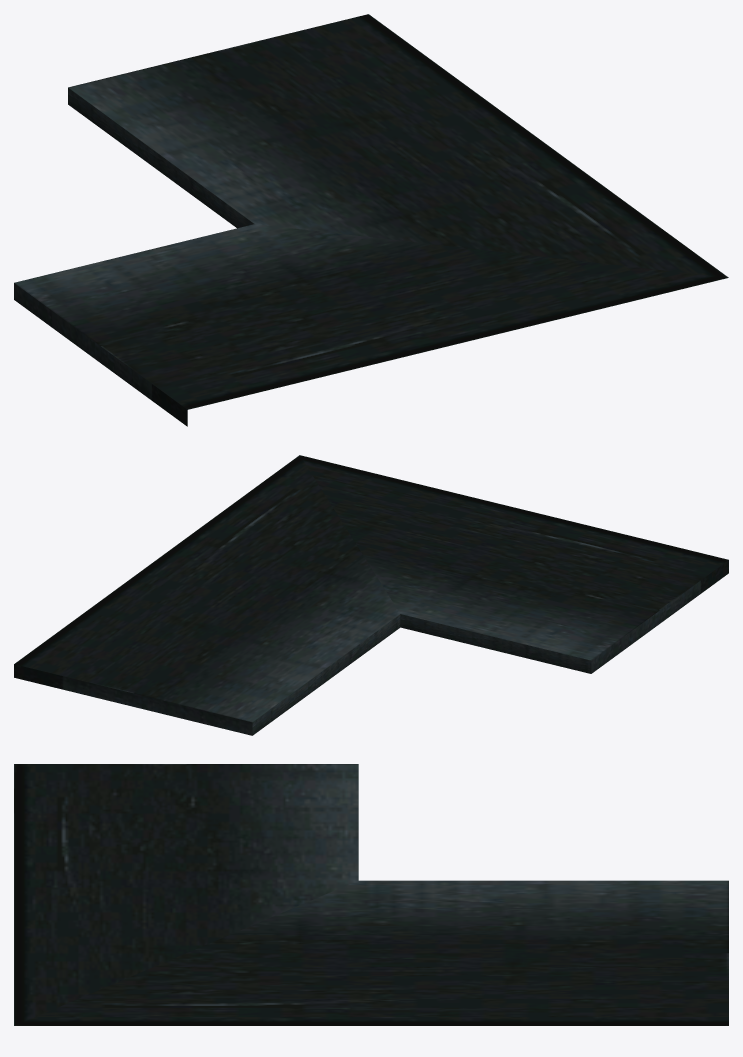
File: CONTROL_TOWER_TABLE02.glb
The picture shows the model from 3 angles, top to bottom: view 1: azimuth 30°, elevation 25°; view 2: azimuth 150°, elevation 25°; view 3: azimuth 270°, elevation 25°; orthographic projection. The views are drawn at different scales.
Visible parts, largest first — view 1: CONTROL_TOWER_TABLE02; view 2: CONTROL_TOWER_TABLE02; view 3: CONTROL_TOWER_TABLE02.
Part boxes in pixels (x1=…): CONTROL_TOWER_TABLE02: x1=14, y1=14, x2=728, y2=426; CONTROL_TOWER_TABLE02: x1=14, y1=455, x2=728, y2=735; CONTROL_TOWER_TABLE02: x1=14, y1=764, x2=728, y2=1025.
Bounding box in the file's own units: 1.8 × 0.054 × 2.08.
Materials: 1 (1 with a texture image).
